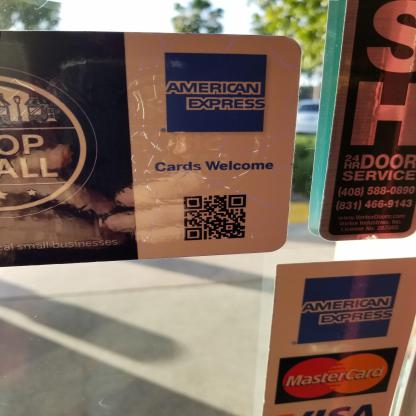qr: (182, 192, 251, 242)
